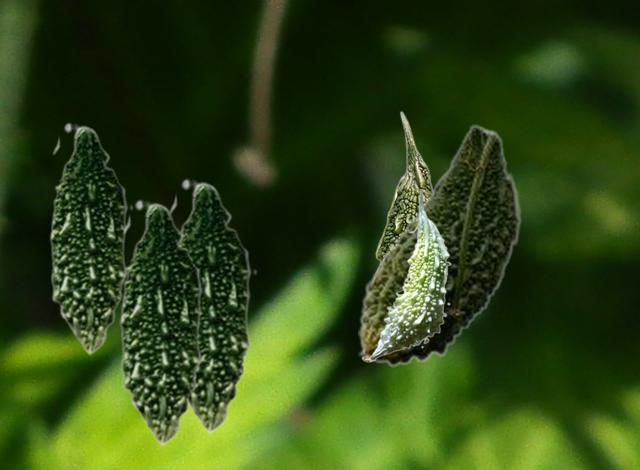ampalaya: (358, 124, 521, 366), (169, 178, 256, 434), (119, 199, 207, 446), (49, 122, 132, 355), (361, 110, 432, 361), (369, 189, 450, 360)
